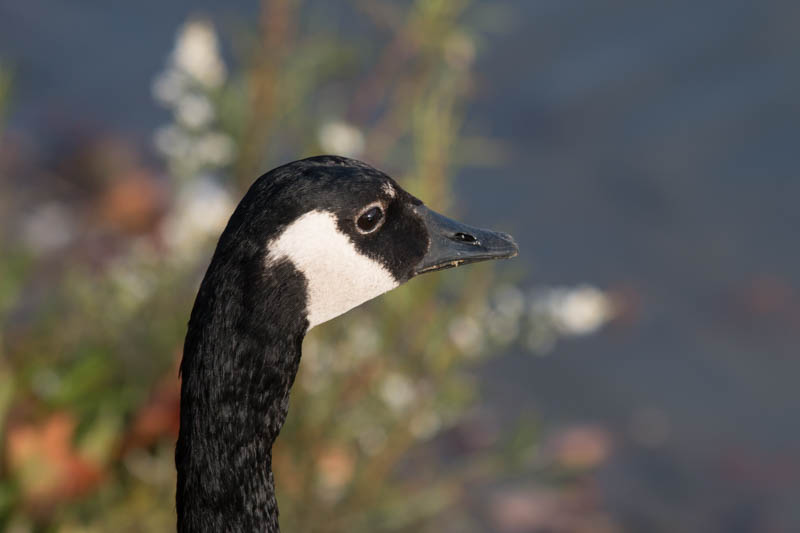goose-head: (204, 154, 518, 334)
